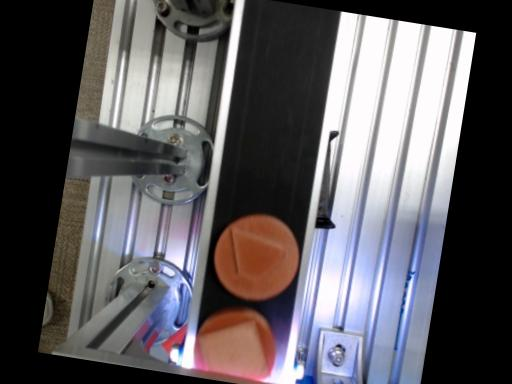Brown_Waper: (213, 213, 298, 300), (194, 307, 275, 380)
